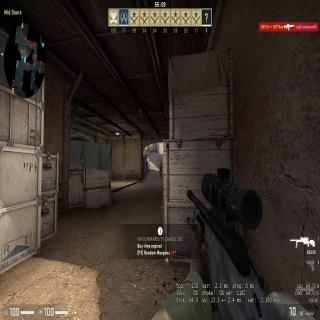T-Body: (159, 160, 162, 176)
T-Head: (160, 160, 162, 163)
